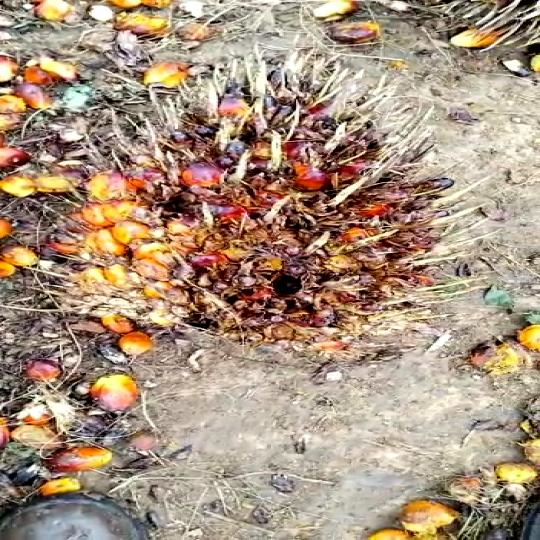terlalu masak: (26, 63, 491, 382)
